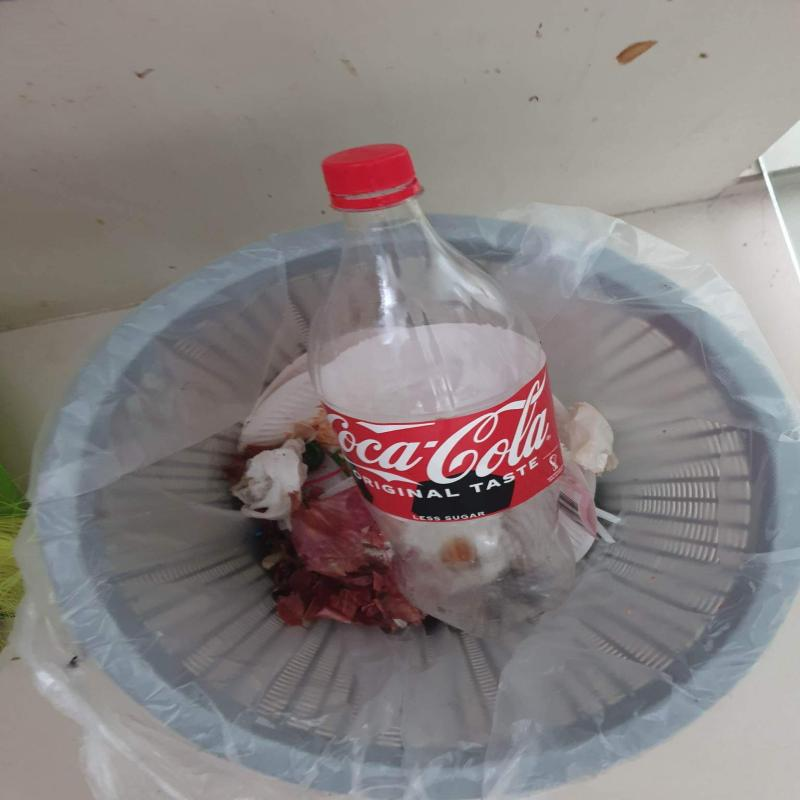cardboard: (237, 351, 309, 444), (238, 378, 323, 452)
paper: (568, 403, 623, 472)
plastic bottle: (308, 143, 576, 639)
vegetable peels: (264, 486, 425, 632), (232, 439, 306, 526)
